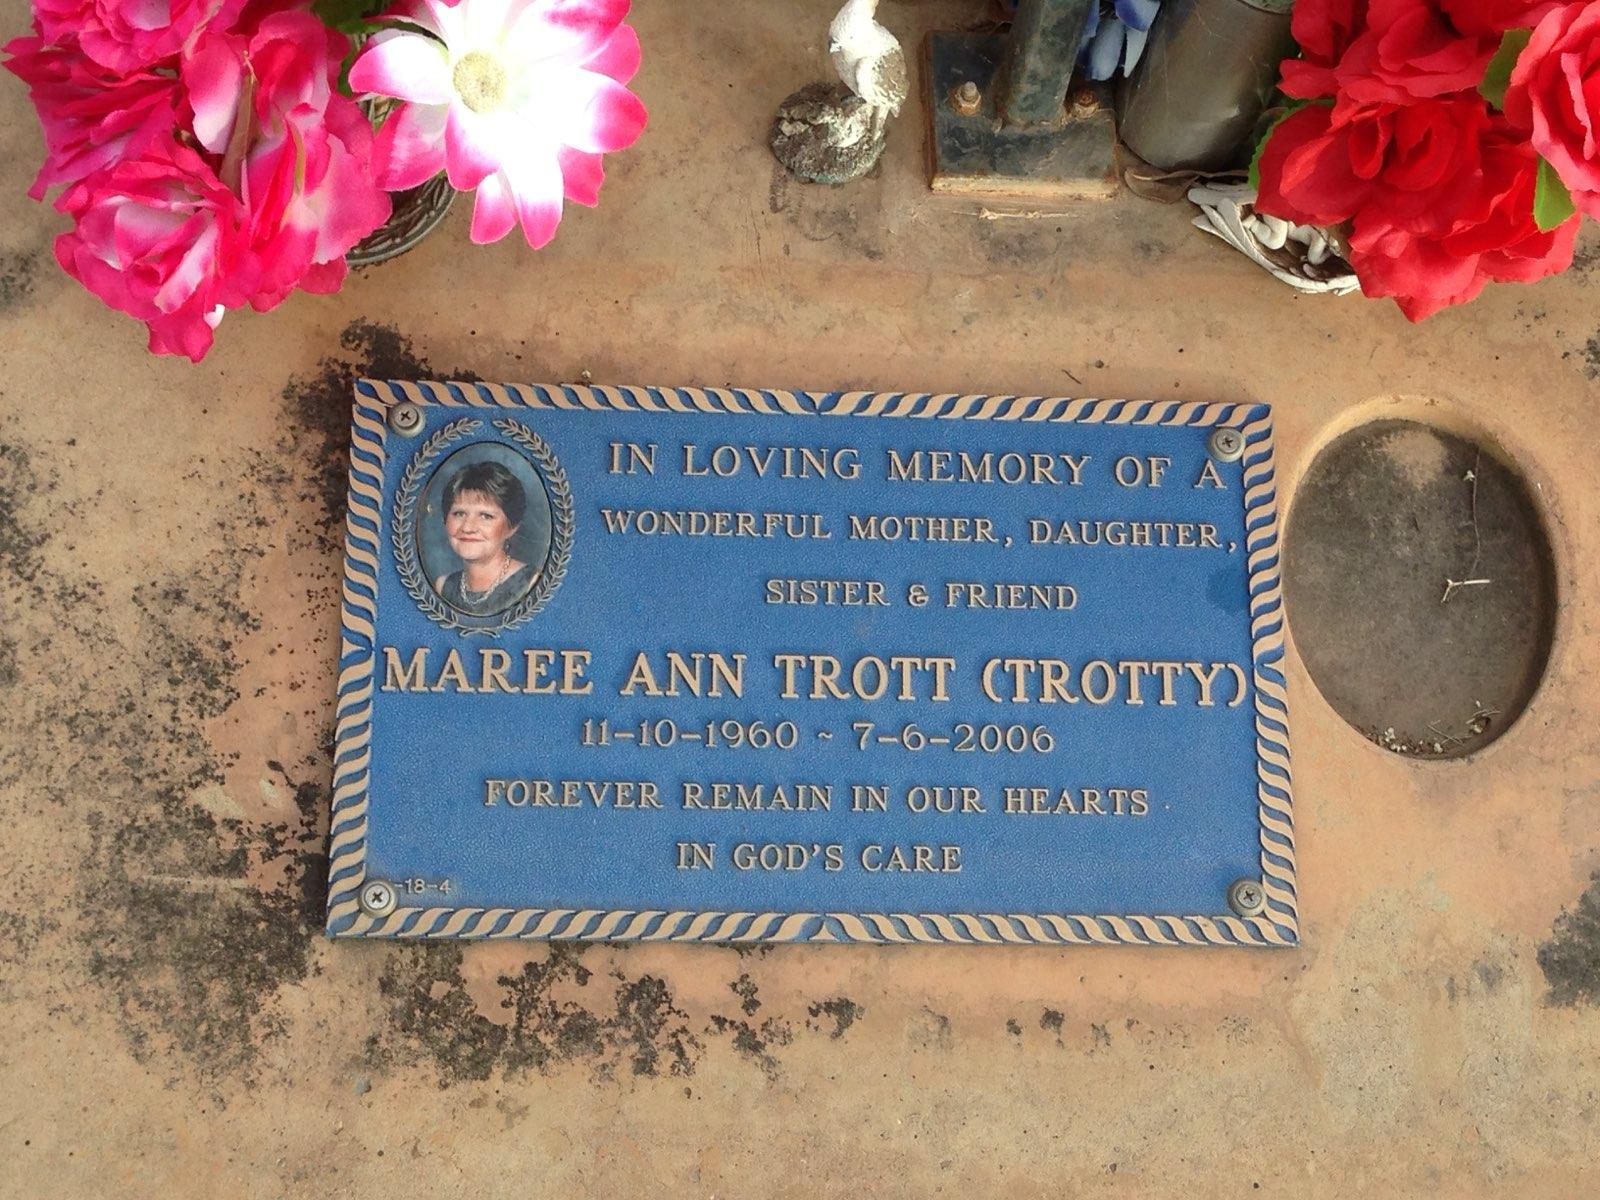plaque: (306, 321, 1311, 1000)
